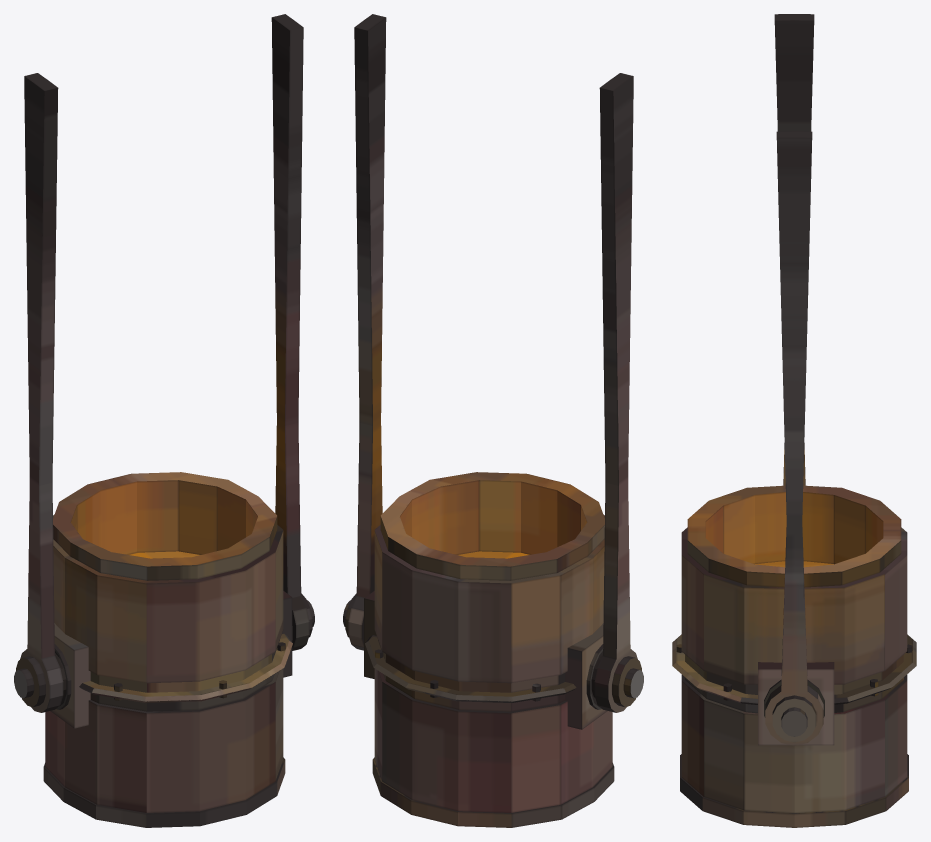
The model's file is Lava_Container.fbx.
The picture shows the model from 3 angles, left to right: view 1: azimuth 30°, elevation 25°; view 2: azimuth 150°, elevation 25°; view 3: azimuth 270°, elevation 25°; orthographic projection. The views are drawn at different scales.
Visible parts, largest first — view 1: cylinder_3, cylinder_4, cylinder, cylinder_2, cuboid, cylinder_1, cuboid_1; view 2: cylinder_3, cylinder_4, cylinder, cylinder_2, cuboid, cylinder_1, cuboid_1; view 3: cylinder_3, cylinder, cylinder_4, cylinder_2, cuboid_1, cylinder_1.
Part boxes in pixels (<box>): cylinder_3: <box>53,472,283,683</box>; cylinder_4: <box>14,14,314,712</box>; cylinder: <box>43,669,285,827</box>; cylinder_2: <box>79,634,292,701</box>; cuboid: <box>50,623,90,728</box>; cylinder_1: <box>80,670,280,711</box>; cuboid_1: <box>282,591,292,677</box>; cylinder_3: <box>374,472,604,683</box>; cylinder_4: <box>343,14,643,712</box>; cylinder: <box>372,669,614,827</box>; cylinder_2: <box>365,635,576,701</box>; cuboid: <box>565,623,607,729</box>; cylinder_1: <box>377,670,575,711</box>; cuboid_1: <box>364,591,376,678</box>; cylinder_3: <box>681,485,907,684</box>; cylinder: <box>680,674,908,827</box>; cylinder_4: <box>764,14,824,745</box>; cylinder_2: <box>672,634,916,703</box>; cuboid_1: <box>758,662,834,745</box>; cylinder_1: <box>685,677,903,713</box>.
Bounding box in the file's own units: 132 × 318 × 100.
1 material, 1 textured.
